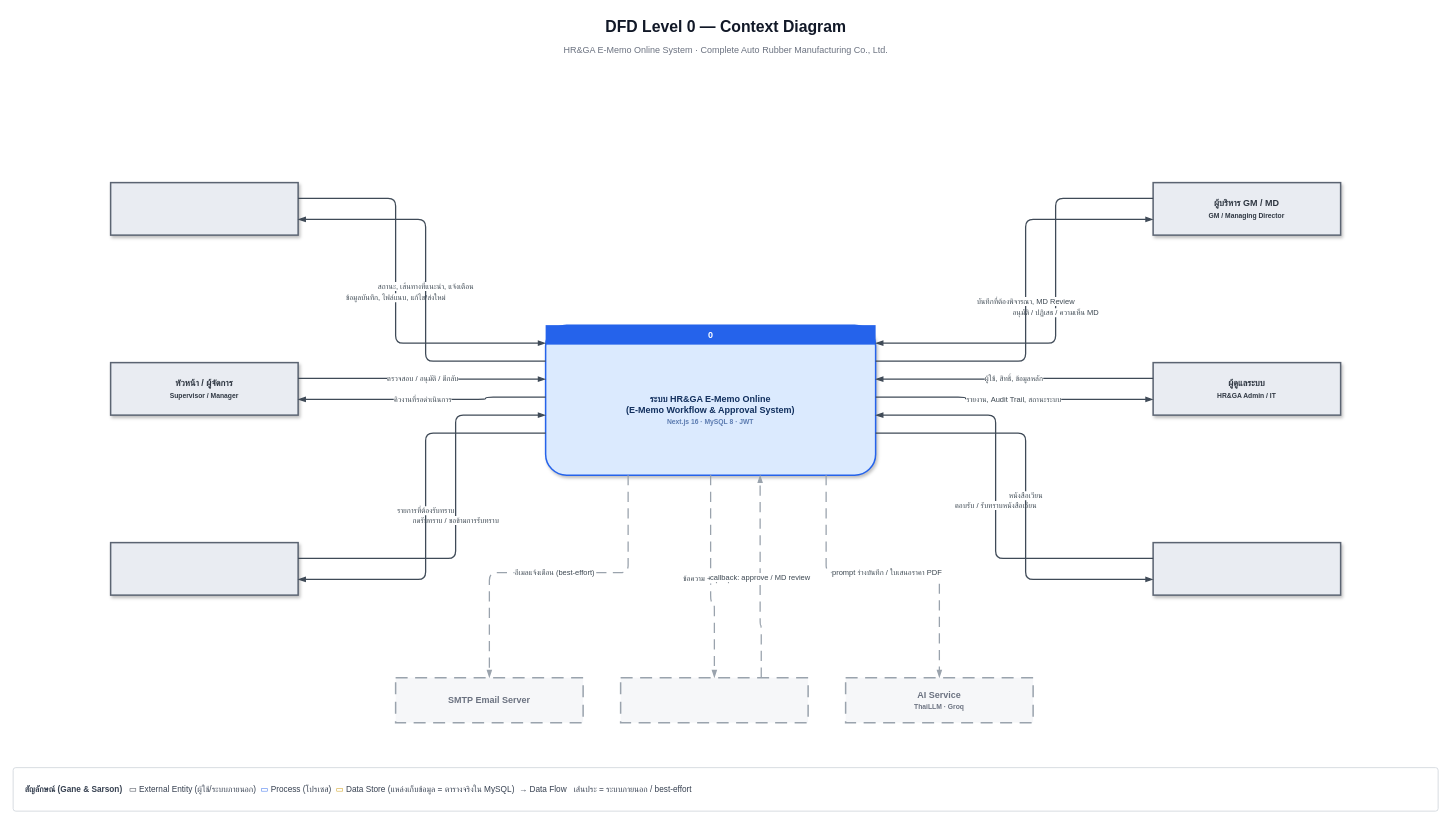
The diagram is 1451 pixels wide and 824 high, and some of its shapes have lost their labels. Each missing label, with the centre of its shape:
"Telegram Bot API" goes at pixel 714 699.
"ผู้ยื่นคำขอ Issued Person / Requester" goes at pixel 204 209.
"ผู้รับทราบ Read Recipient" goes at pixel 204 569.
"ผู้รับหนังสือเวียน Dispatch Recipient" goes at pixel 1247 569.
